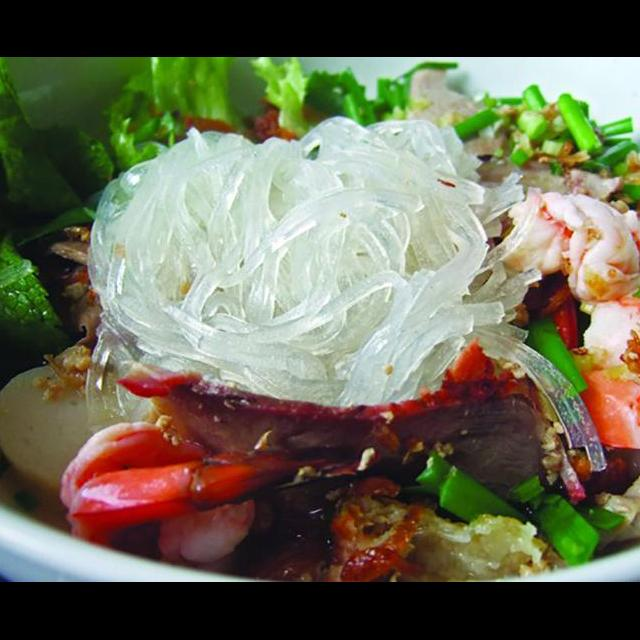banh hu tieu: (75, 110, 549, 414)
tom: (564, 291, 640, 462)
